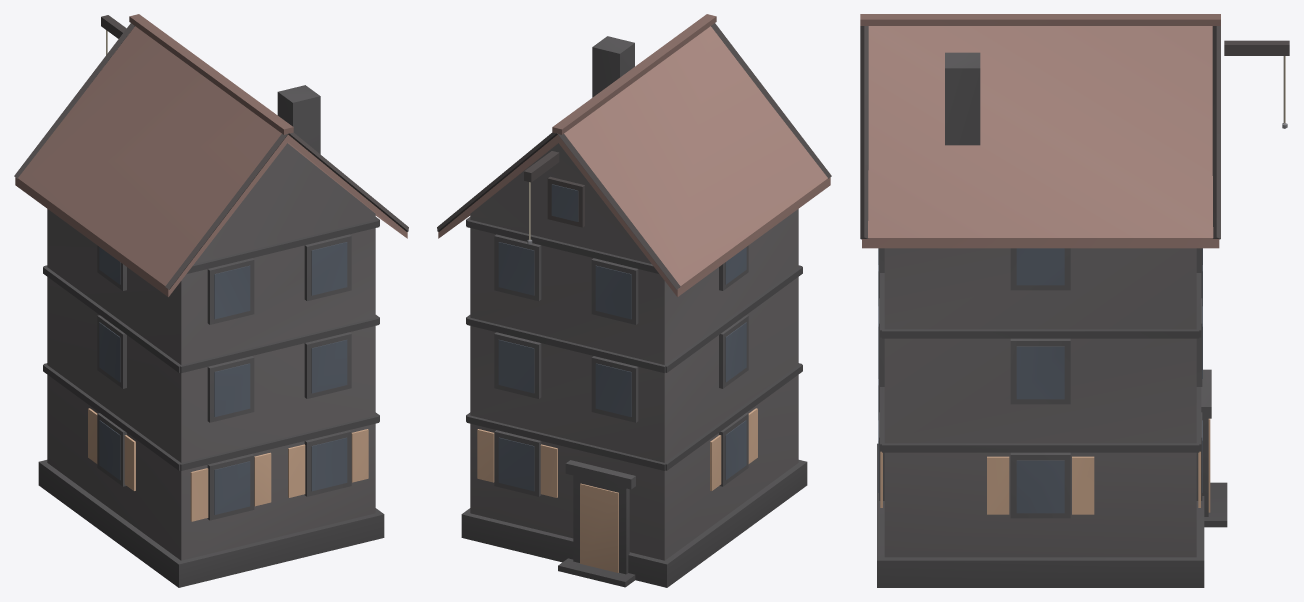
The model's file is townhouse_cinder.gltf.
3 views of the same model, side by side, from view 1: azimuth 30°, elevation 25°; view 2: azimuth 150°, elevation 25°; view 3: azimuth 270°, elevation 25° (orthographic). The views are drawn at different scales.
Visible parts, largest first — view 1: Body; view 2: Body; view 3: Body.
Part boxes in pixels (<box>): Body: <box>14,14,408,587</box>; Body: <box>437,14,831,587</box>; Body: <box>860,14,1289,587</box>.
Bounding box in the file's own units: 6.52 × 11.24 × 8.54.
